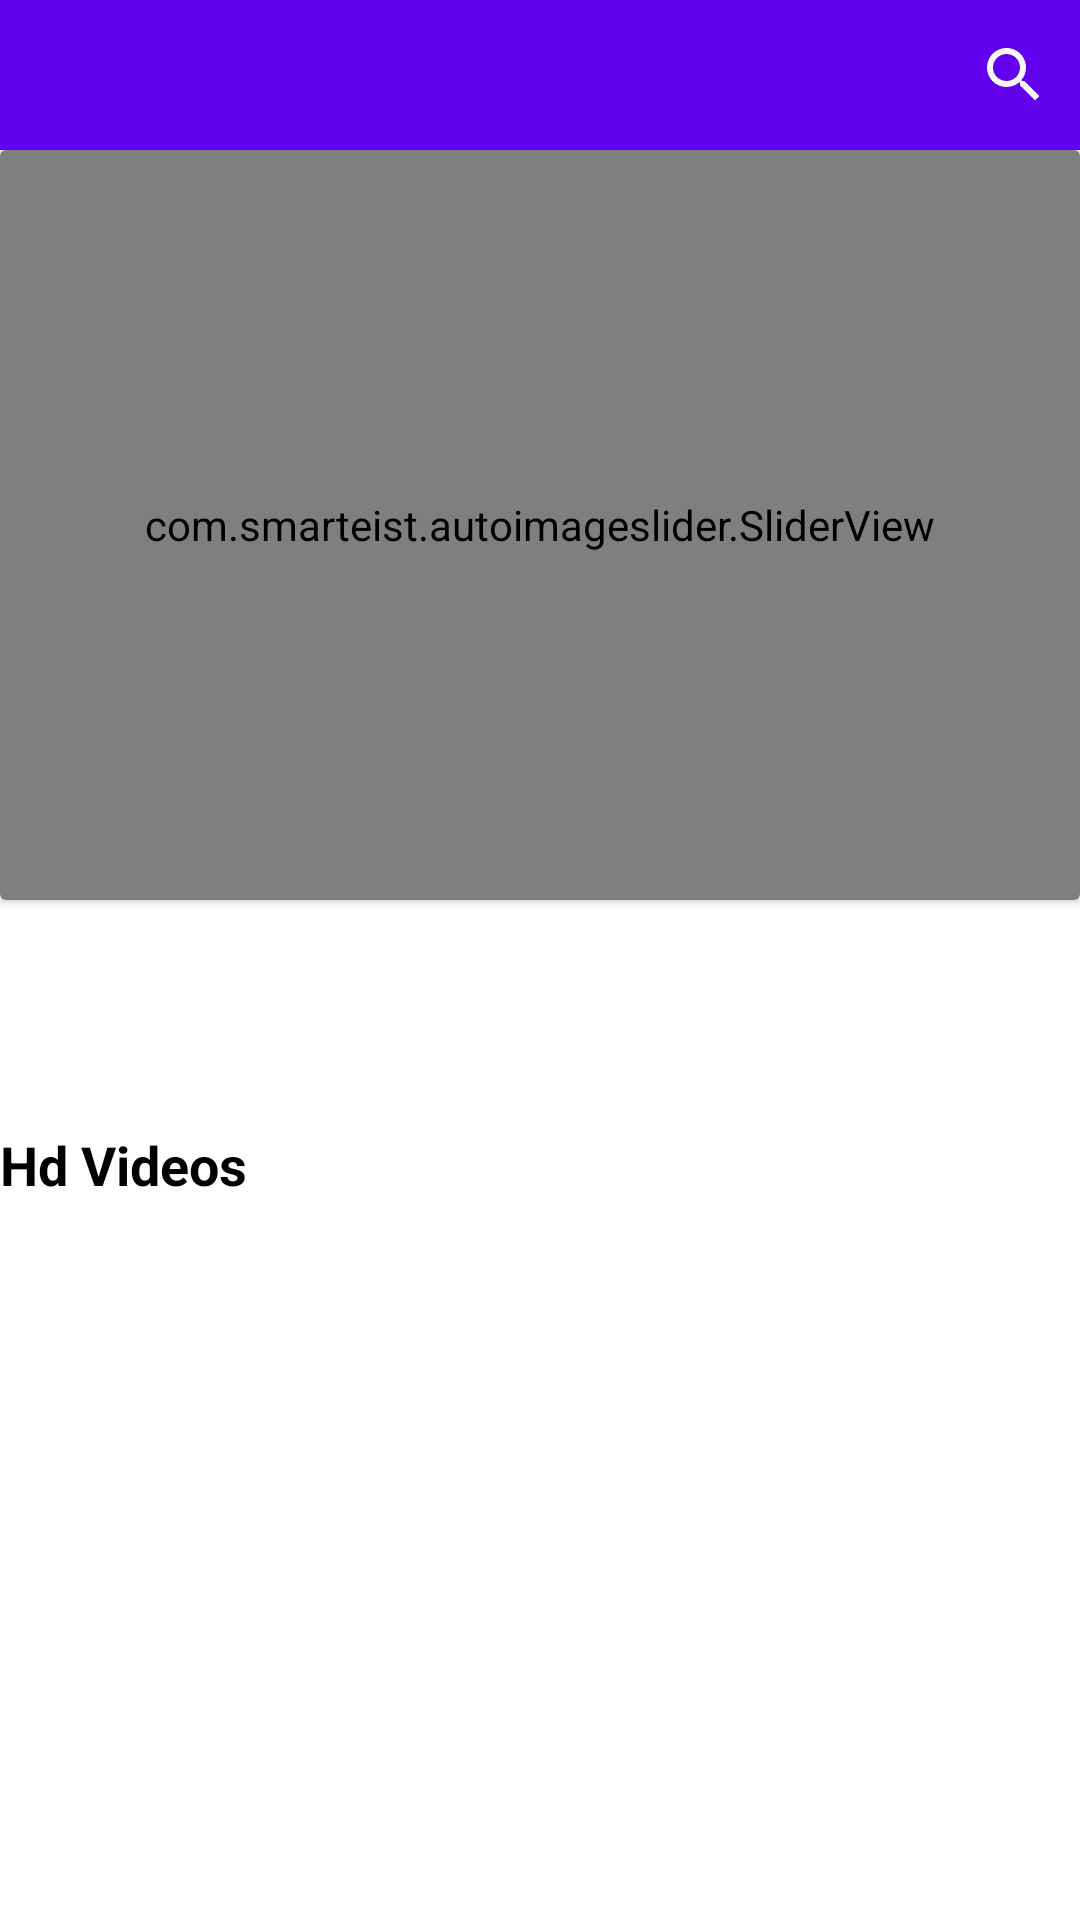

Icons on this 1080px x 1920px Android screen, each with its box as (x1, y1, x2, y2):
search: (987, 48, 1039, 100)
